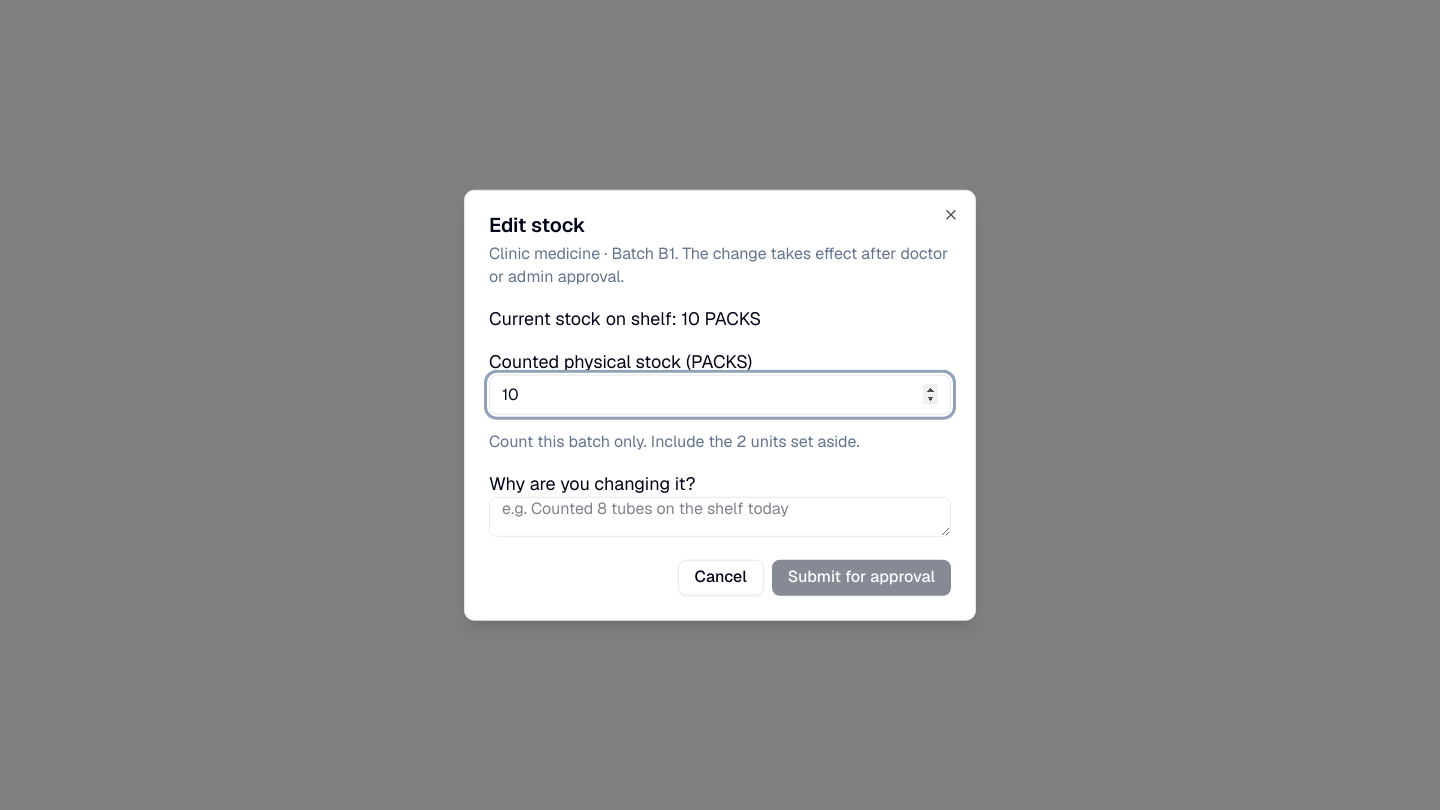
Test: keeps inputs after failure so the user can retry
Replace the text in the number field with "8" at (720, 394), box x1=489 y1=374 x2=951 y2=414
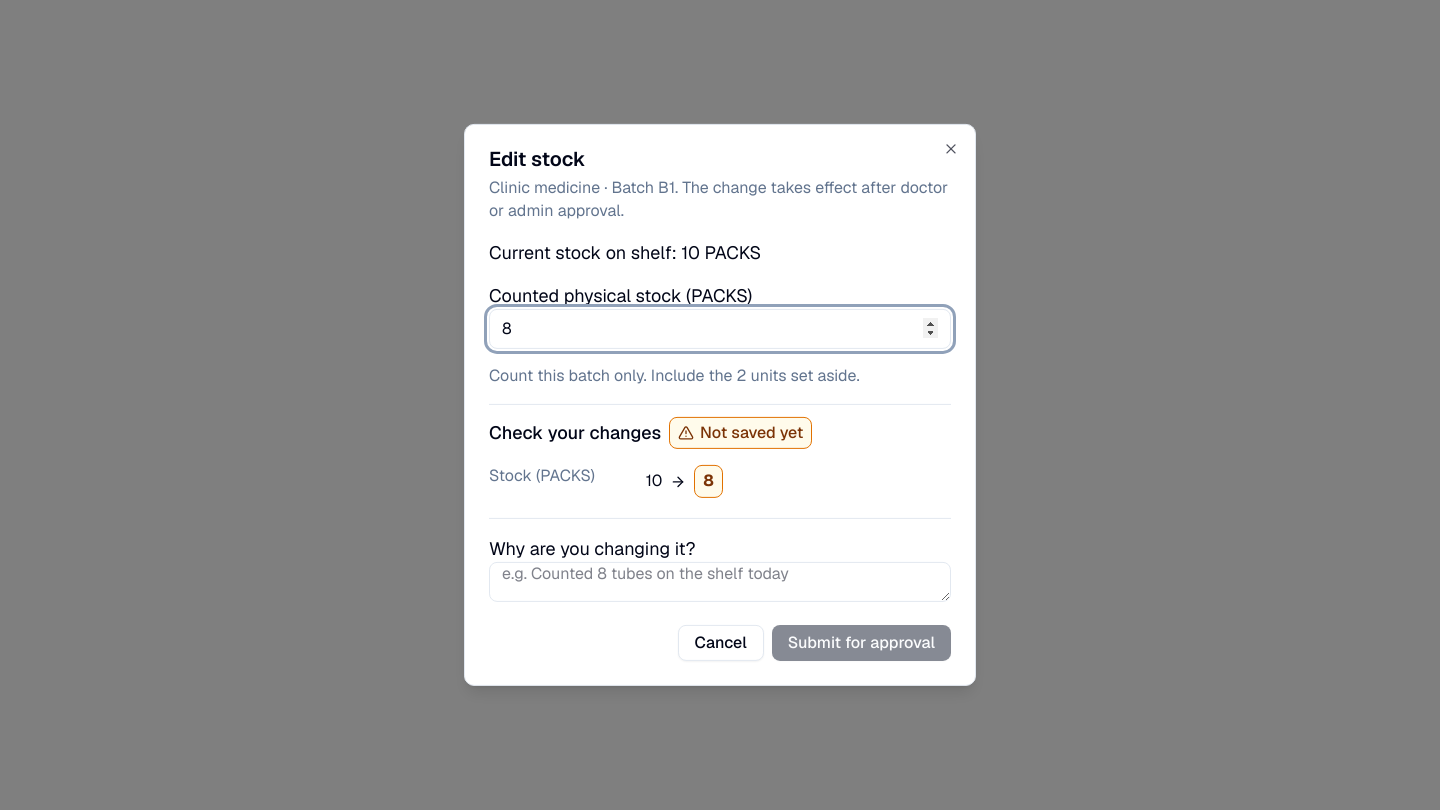
Type "Shelf count B1" into the text box at (720, 582), box x1=489 y1=562 x2=951 y2=602
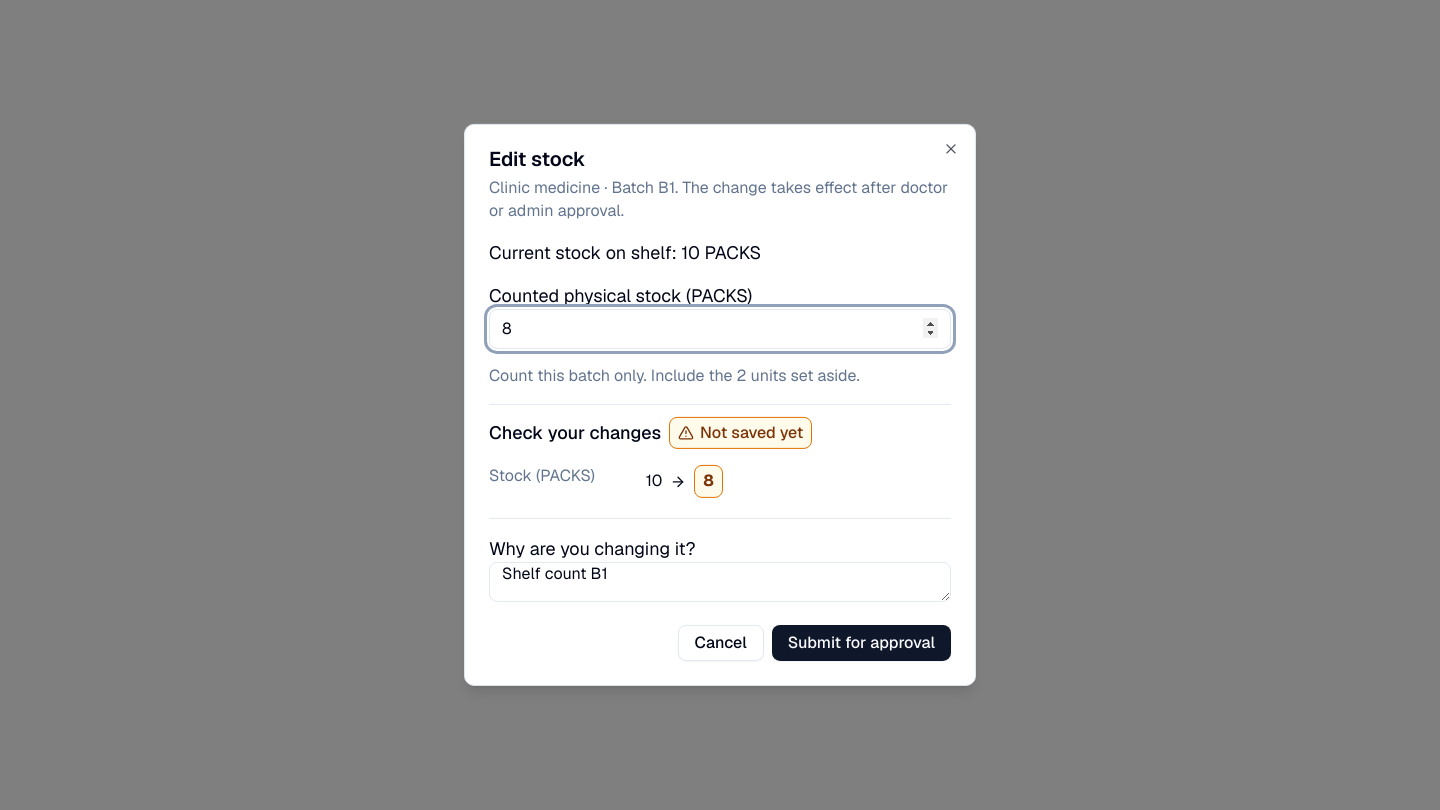
Click the button "Submit for approval" at (861, 643), box x1=772 y1=625 x2=951 y2=661
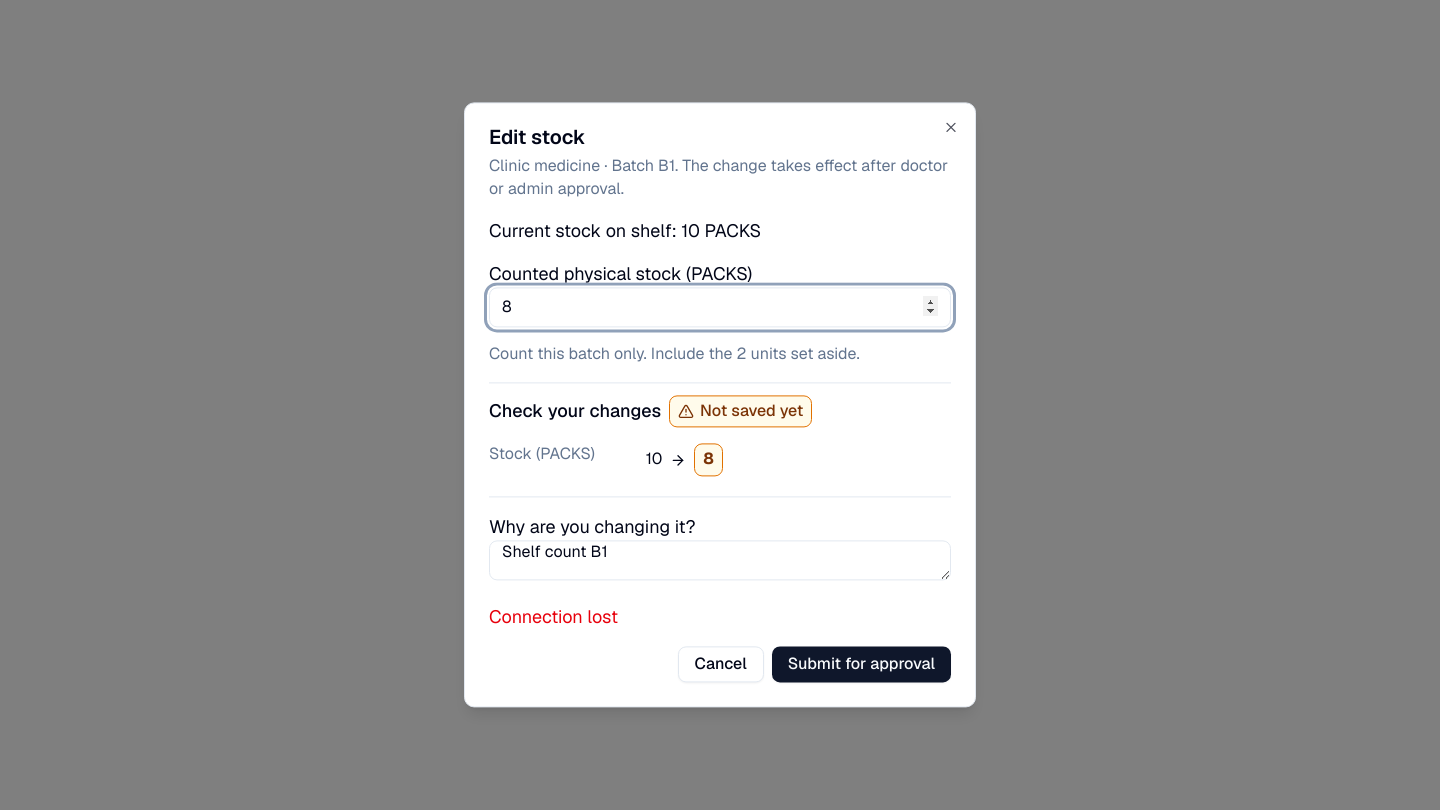
Expected: the message reads "Connection lost", x1=489 y1=606 x2=618 y2=629
